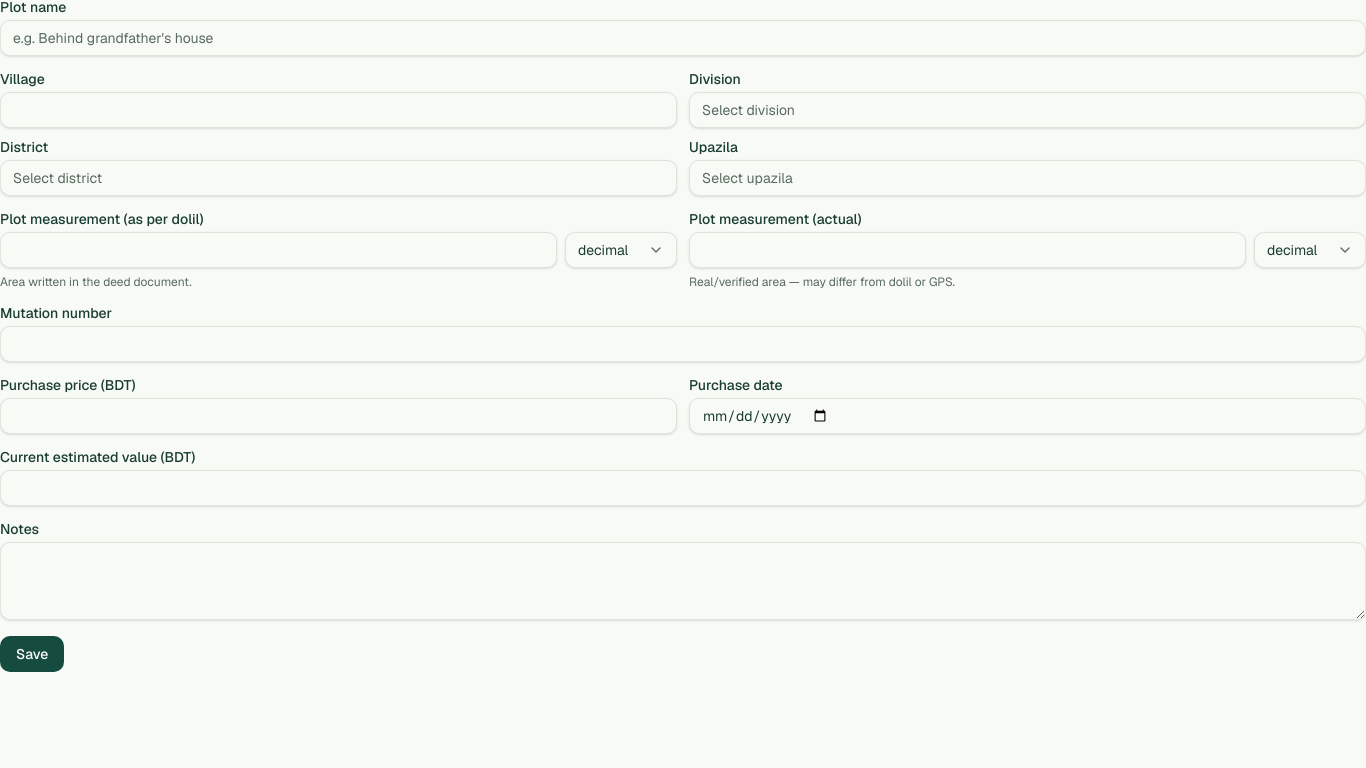
Test: PlotMetadataForm — plaintext, unencrypted record, no session › auto-fills district and division when the user picks an upazila
In the dropdown labelled "Upazila": (1028, 178) [689,160,1365,196], type "Savar"
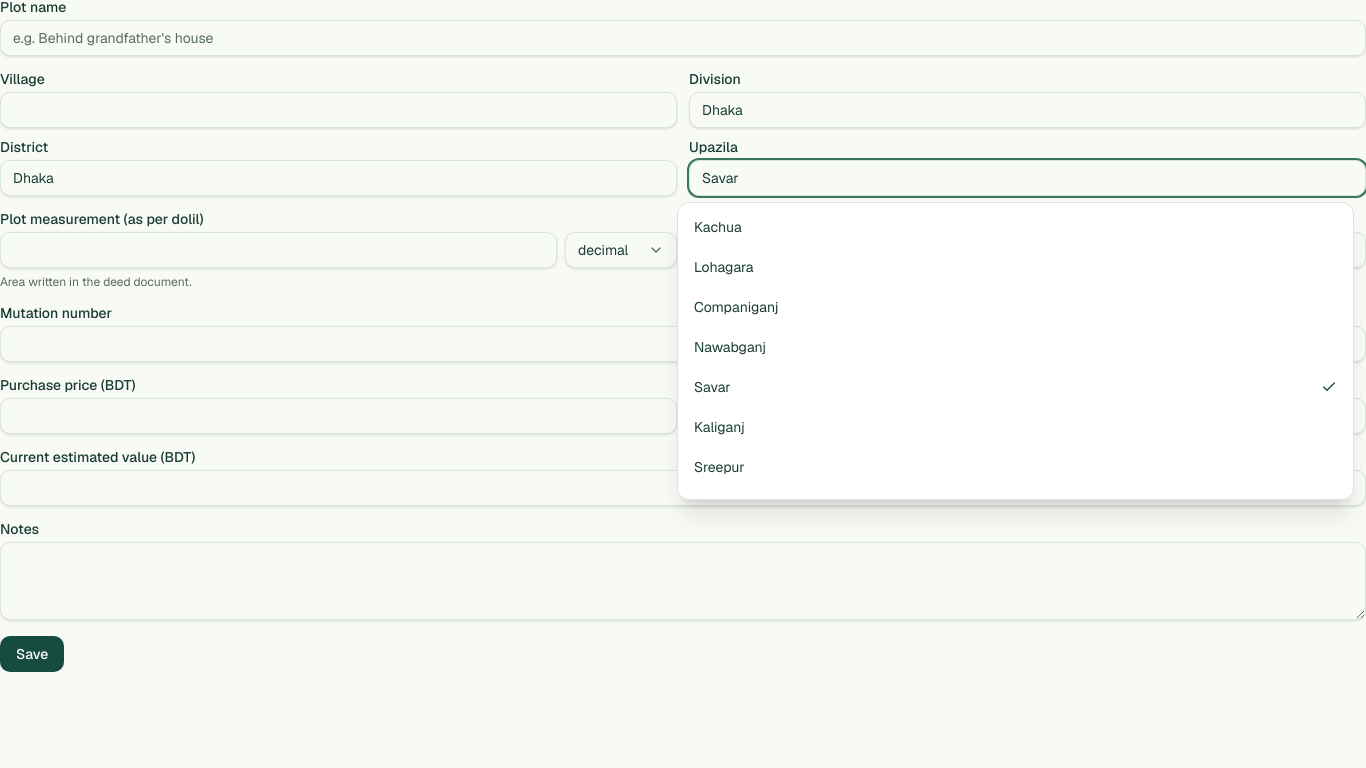
Now the dropdown labelled "District" holds "Dhaka", box [0,160,677,196]
Now the dropdown labelled "Division" holds "Dhaka", box [689,92,1365,128]
